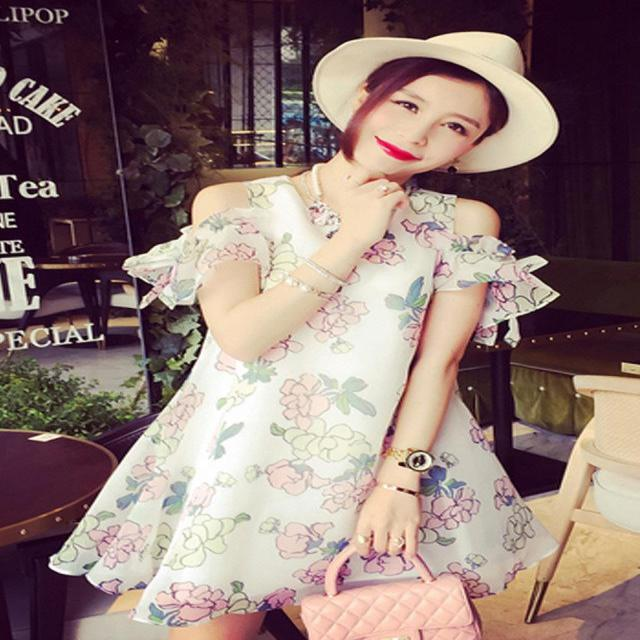short sleeve dress: (48, 163, 563, 629)
